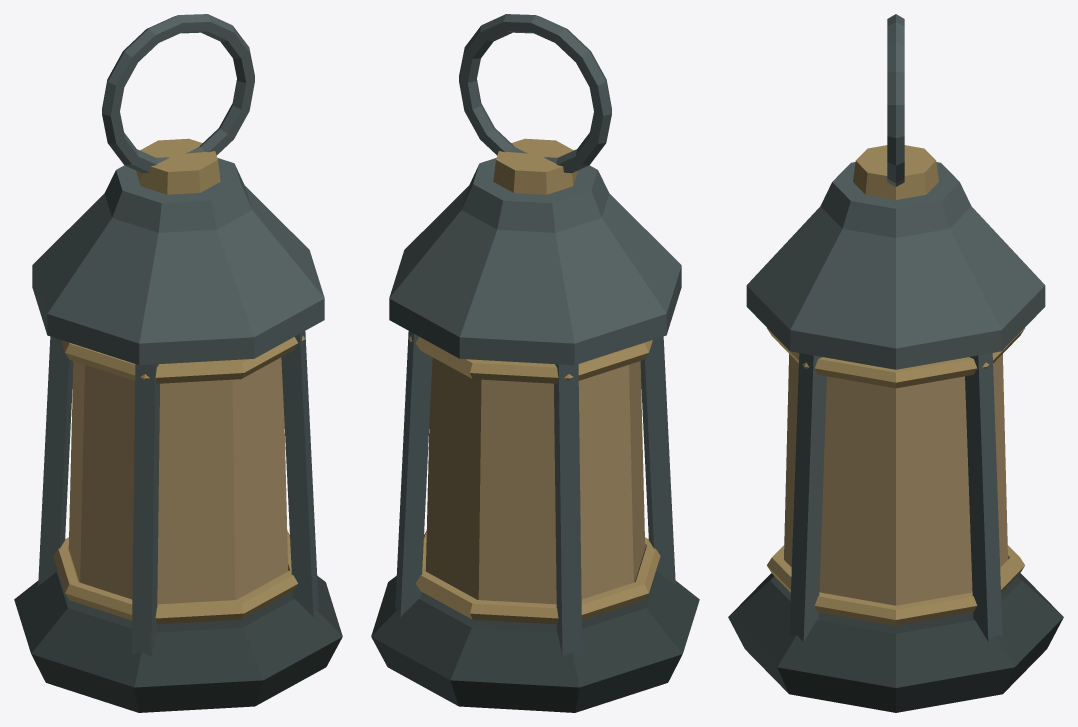
File: SWP_CabinLantern.fbx
3 renders of one model, left to right at view 1: azimuth 30°, elevation 25°; view 2: azimuth 150°, elevation 25°; view 3: azimuth 270°, elevation 25°, orthographic.
Visible parts, largest first — view 1: SWP_CabinLantern; view 2: SWP_CabinLantern; view 3: SWP_CabinLantern.
Boxes of the visible parts, <box> form: SWP_CabinLantern: <box>14,14,342,712</box>; SWP_CabinLantern: <box>371,14,699,712</box>; SWP_CabinLantern: <box>728,14,1063,712</box>.
Bounding box in the file's own units: 0.2 × 0.412 × 0.2.
